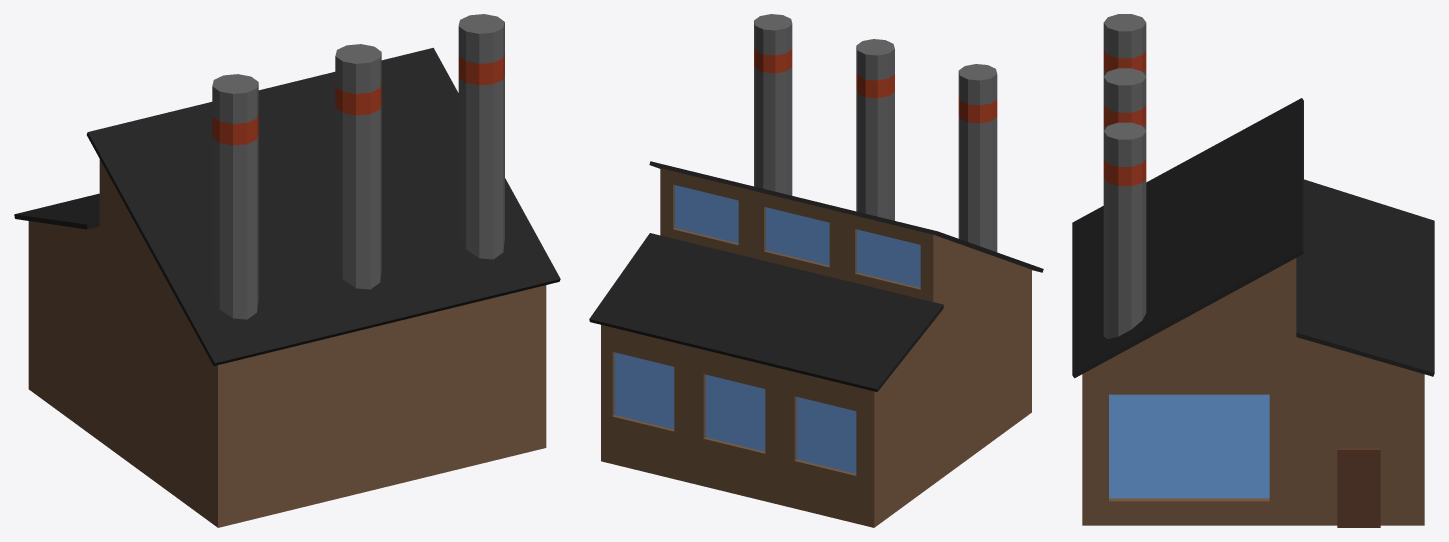
Rendered from Factory.fbx.
3 views of the same model, side by side, from view 1: azimuth 30°, elevation 25°; view 2: azimuth 150°, elevation 25°; view 3: azimuth 270°, elevation 25° (orthographic). The views are drawn at different scales.
Parts seen in each view (by area): view 1: Cylinder.001; view 2: Cylinder.001; view 3: Cylinder.001.
Boxes of the visible parts, <box> form: Cylinder.001: <box>14,14,560,527</box>; Cylinder.001: <box>589,14,1043,527</box>; Cylinder.001: <box>1072,14,1434,527</box>.
Bounding box in the file's own units: 84.68 × 97 × 86.03.
